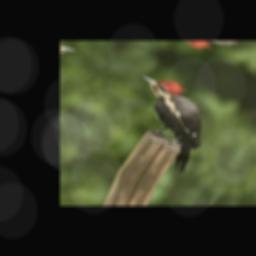Woodpecker: (100, 66, 236, 180)
